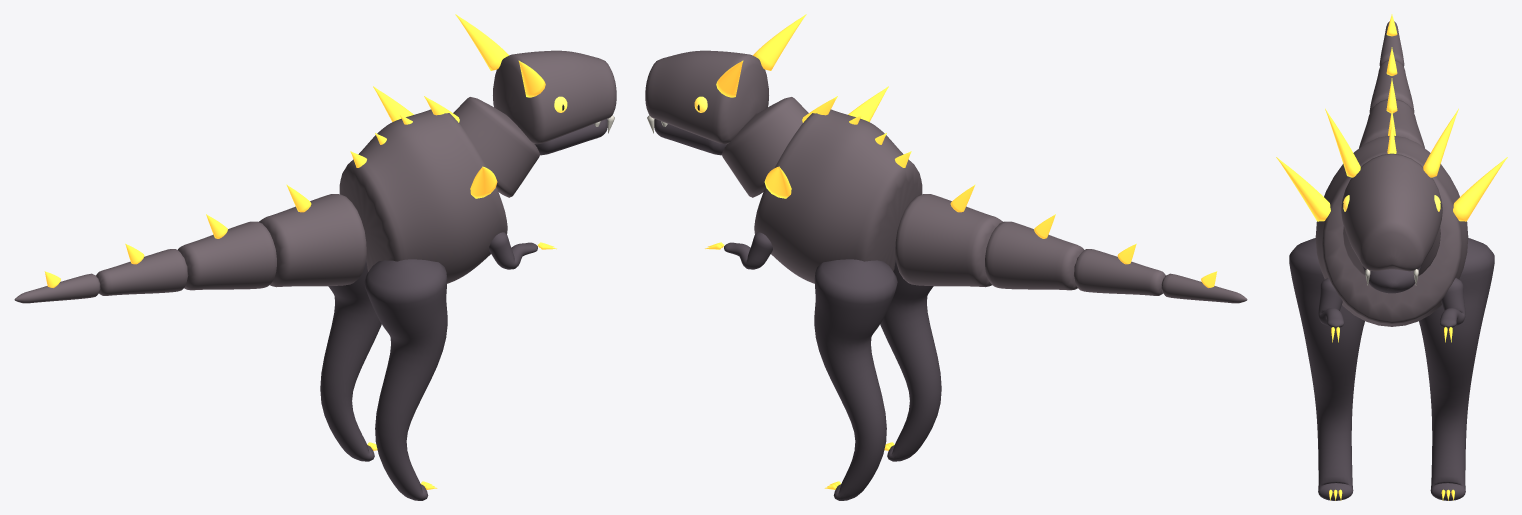
Rendered from boss_pyroclast.glb.
3 views of the same model, side by side, from view 1: azimuth 30°, elevation 25°; view 2: azimuth 150°, elevation 25°; view 3: azimuth 270°, elevation 25° (orthographic). The views are drawn at different scales.
Parts seen in each view (by area): view 1: Pyro_Torso, Bone_Leg1_Limb, Pyro_Cranium, PyroTailSeg_0, Bone_Leg0_Limb, PyroTailSeg_1, Pyro_Neck, PyroTailSeg_2, PyroTailSeg_3, Bone_Arm1_Limb, Pyro_Jaw, CrownObsidianHorn_L; view 2: Pyro_Torso, Bone_Leg0_Limb, Pyro_Cranium, PyroTailSeg_0, Bone_Leg1_Limb, PyroTailSeg_1, Pyro_Neck, PyroTailSeg_2, PyroTailSeg_3, Bone_Arm0_Limb, Pyro_Jaw, CrownObsidianHorn_R; view 3: Pyro_Torso, Bone_Leg0_Limb, Bone_Leg1_Limb, Pyro_Cranium, PyroTailSeg_1, PyroTailSeg_2, Pyro_Jaw, ShoulderMagmaSpike_L, ShoulderMagmaSpike_R, Bone_Arm0_Limb, Bone_Arm1_Limb, CrownObsidianHorn_L (+3 smaller).
Part boxes in pixels (left/top/right/bottom): Pyro_Torso: left=339, top=109, right=507, bottom=283; Bone_Leg1_Limb: left=364, top=259, right=447, bottom=500; Pyro_Cranium: left=493, top=50, right=616, bottom=144; PyroTailSeg_0: left=259, top=194, right=366, bottom=287; Bone_Leg0_Limb: left=320, top=260, right=381, bottom=461; PyroTailSeg_1: left=178, top=221, right=276, bottom=290; Pyro_Neck: left=453, top=97, right=540, bottom=197; PyroTailSeg_2: left=96, top=249, right=188, bottom=295; PyroTailSeg_3: left=14, top=273, right=100, bottom=303; Bone_Arm1_Limb: left=489, top=232, right=537, bottom=269; Pyro_Jaw: left=534, top=119, right=607, bottom=155; CrownObsidianHorn_L: left=455, top=14, right=508, bottom=70; Pyro_Torso: left=754, top=109, right=922, bottom=283; Bone_Leg0_Limb: left=814, top=259, right=897, bottom=500; Pyro_Cranium: left=645, top=50, right=768, bottom=144; PyroTailSeg_0: left=895, top=194, right=1002, bottom=287; Bone_Leg1_Limb: left=880, top=260, right=941, bottom=461; PyroTailSeg_1: left=985, top=221, right=1083, bottom=290; Pyro_Neck: left=721, top=97, right=808, bottom=197; PyroTailSeg_2: left=1073, top=249, right=1165, bottom=295; PyroTailSeg_3: left=1161, top=273, right=1247, bottom=303; Bone_Arm0_Limb: left=724, top=232, right=772, bottom=269; Pyro_Jaw: left=654, top=119, right=727, bottom=155; CrownObsidianHorn_R: left=753, top=14, right=806, bottom=70; Pyro_Torso: left=1315, top=136, right=1468, bottom=326; Bone_Leg0_Limb: left=1419, top=238, right=1494, bottom=500; Bone_Leg1_Limb: left=1289, top=238, right=1364, bottom=500; Pyro_Cranium: left=1341, top=153, right=1442, bottom=271; PyroTailSeg_1: left=1359, top=99, right=1424, bottom=148; PyroTailSeg_2: left=1369, top=60, right=1414, bottom=112; Pyro_Jaw: left=1362, top=265, right=1421, bottom=293; ShoulderMagmaSpike_L: left=1453, top=157, right=1507, bottom=221; ShoulderMagmaSpike_R: left=1276, top=157, right=1330, bottom=221; Bone_Arm0_Limb: left=1439, top=278, right=1465, bottom=328; Bone_Arm1_Limb: left=1318, top=278, right=1344, bottom=328; CrownObsidianHorn_L: left=1423, top=108, right=1458, bottom=177.
Size of the model in its own units: 5.41 by 3.63 by 1.73.
